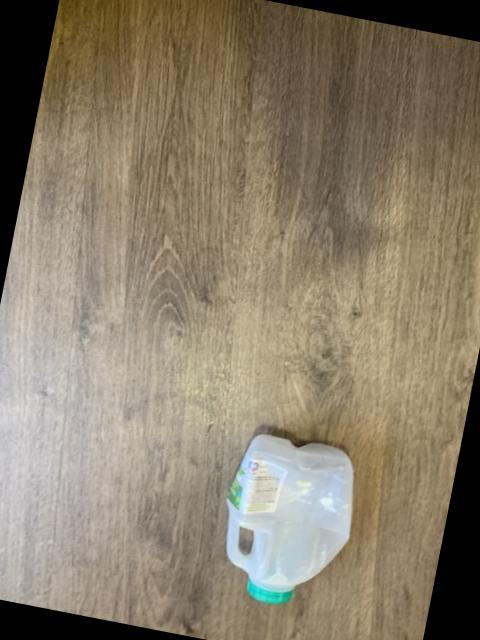plastic: (226, 435, 352, 604)
